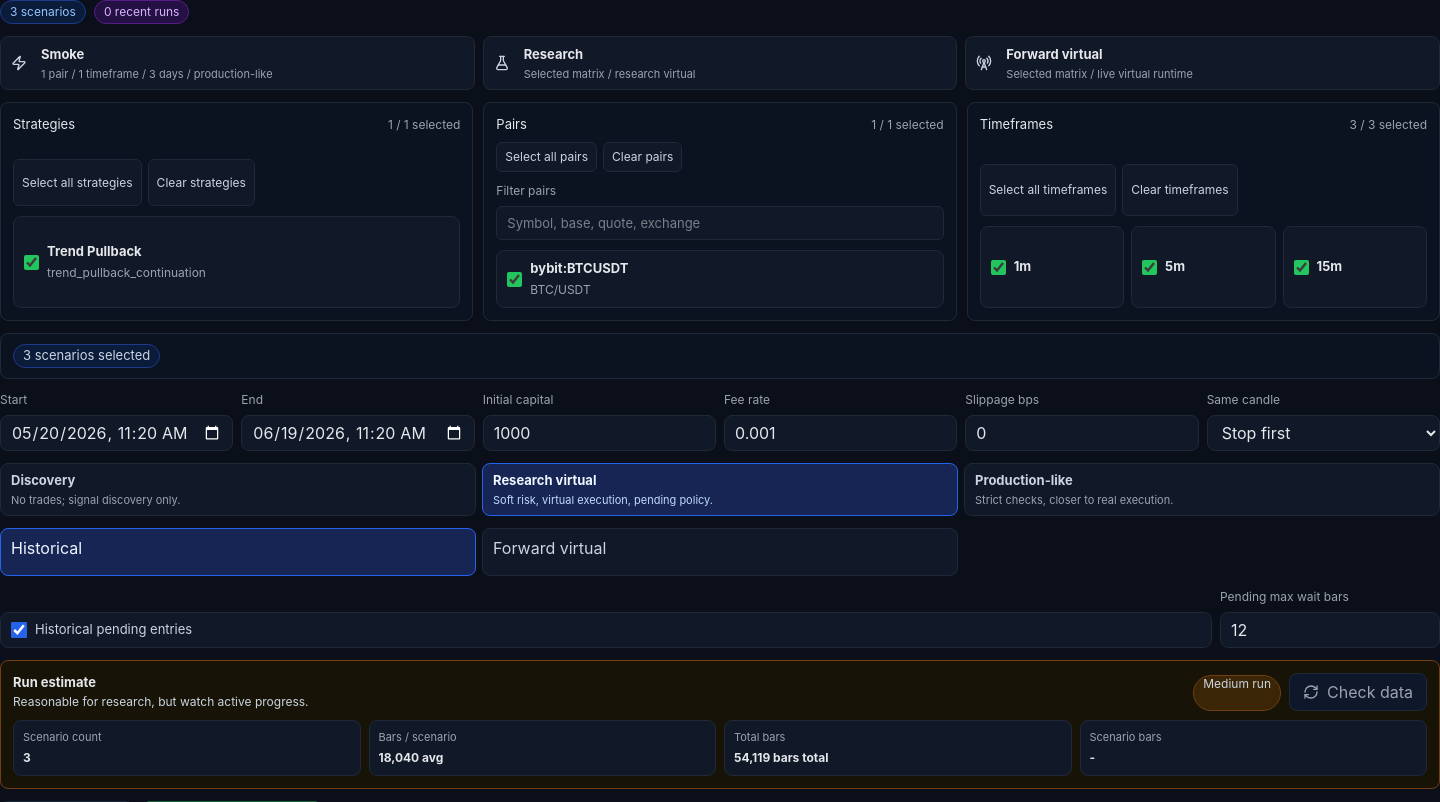
StrategyTestingPanel › renders scanner/market data hint when forward_virtual is selected
The image size is (1440, 802).
Click the button "Forward virtual".
click(550, 548)  # box [482,528,958,576]
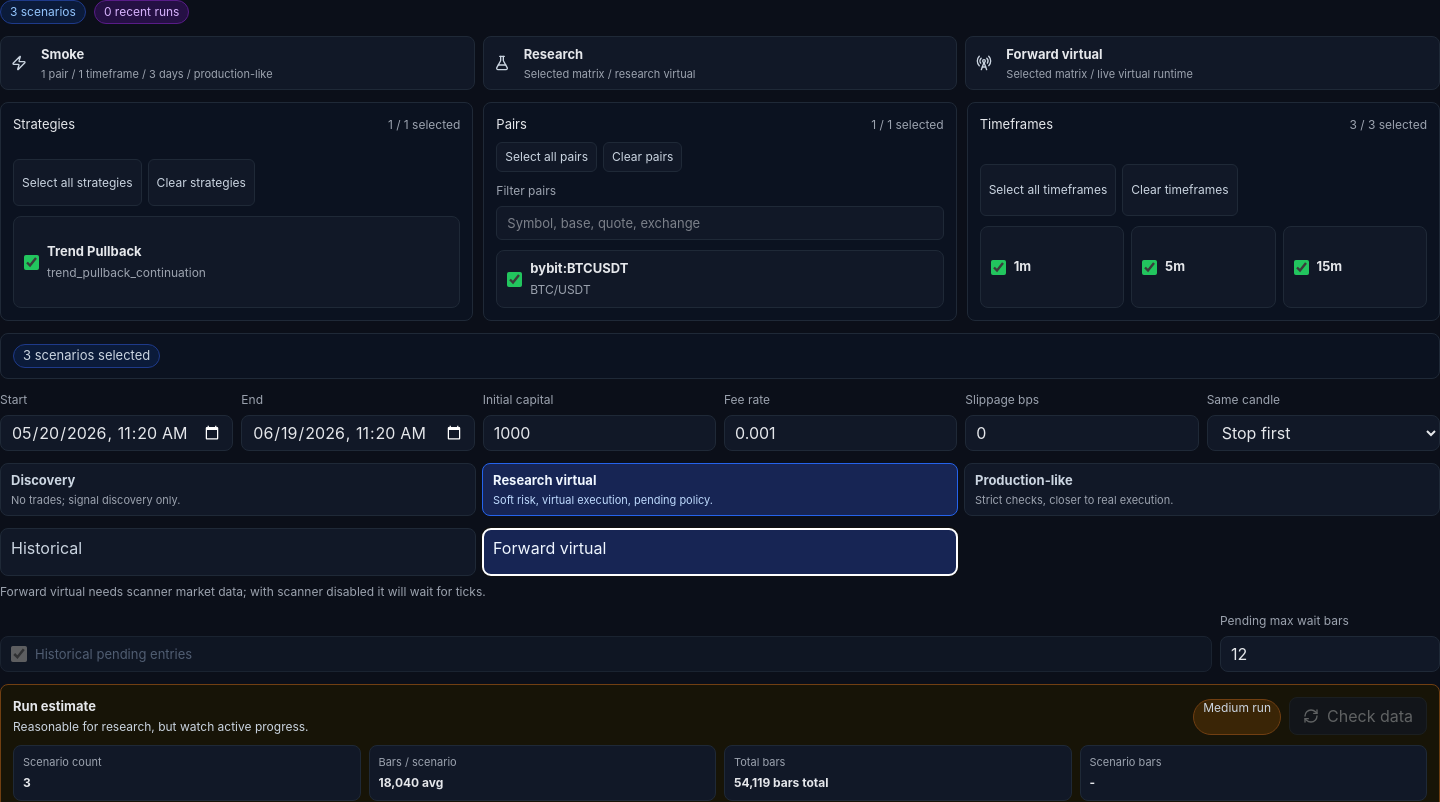
expect the text "Forward virtual needs scanner market data; with scanner disabled it will wait for ticks." is shown: met, box [0,584,486,599]
